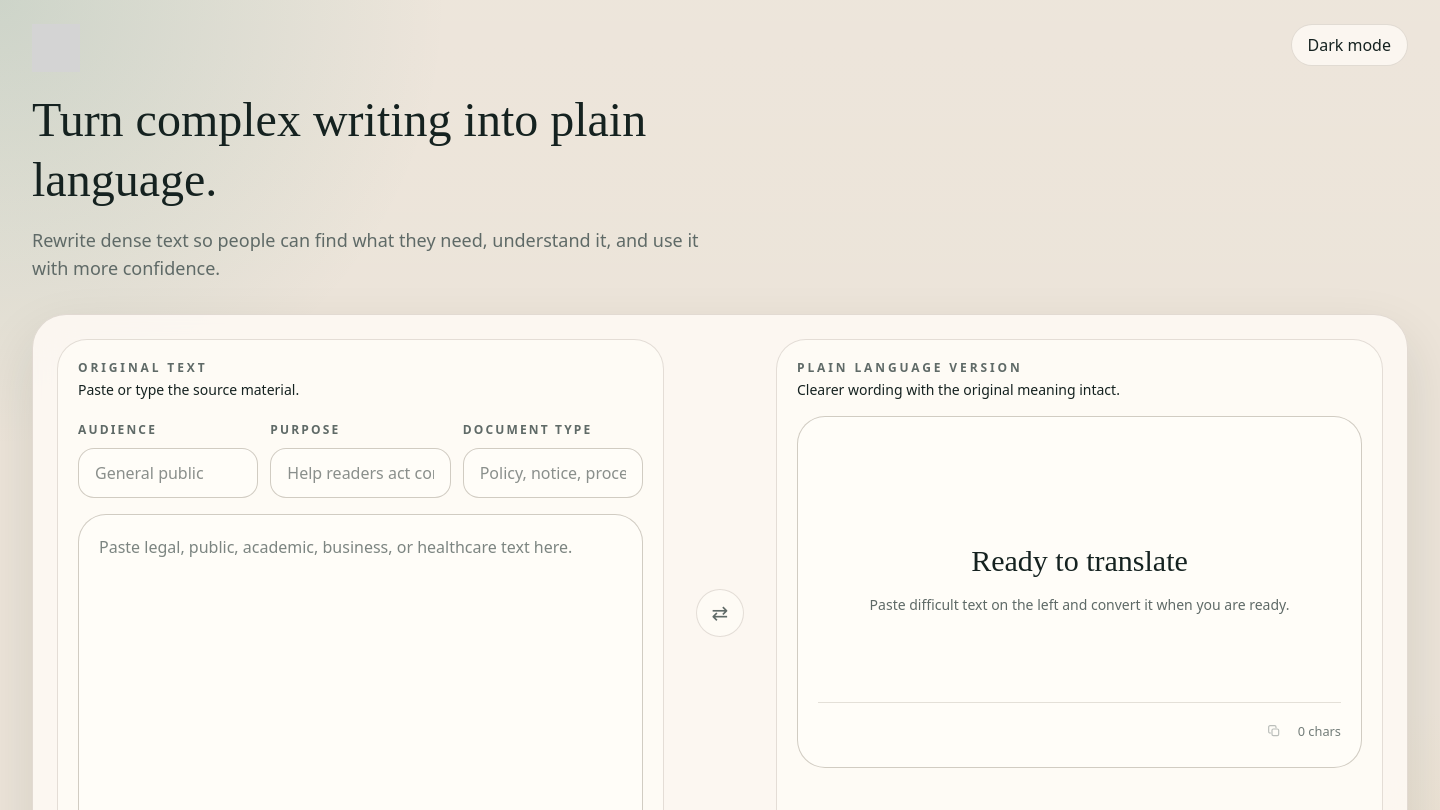
Test: TranslatorApp › submits text, renders the result, and switches to compare mode
Type "Individuals shall complete the form prior to Friday." into the text box named "original text" at (360, 669), box [99, 535, 622, 803]
(page scrolled)
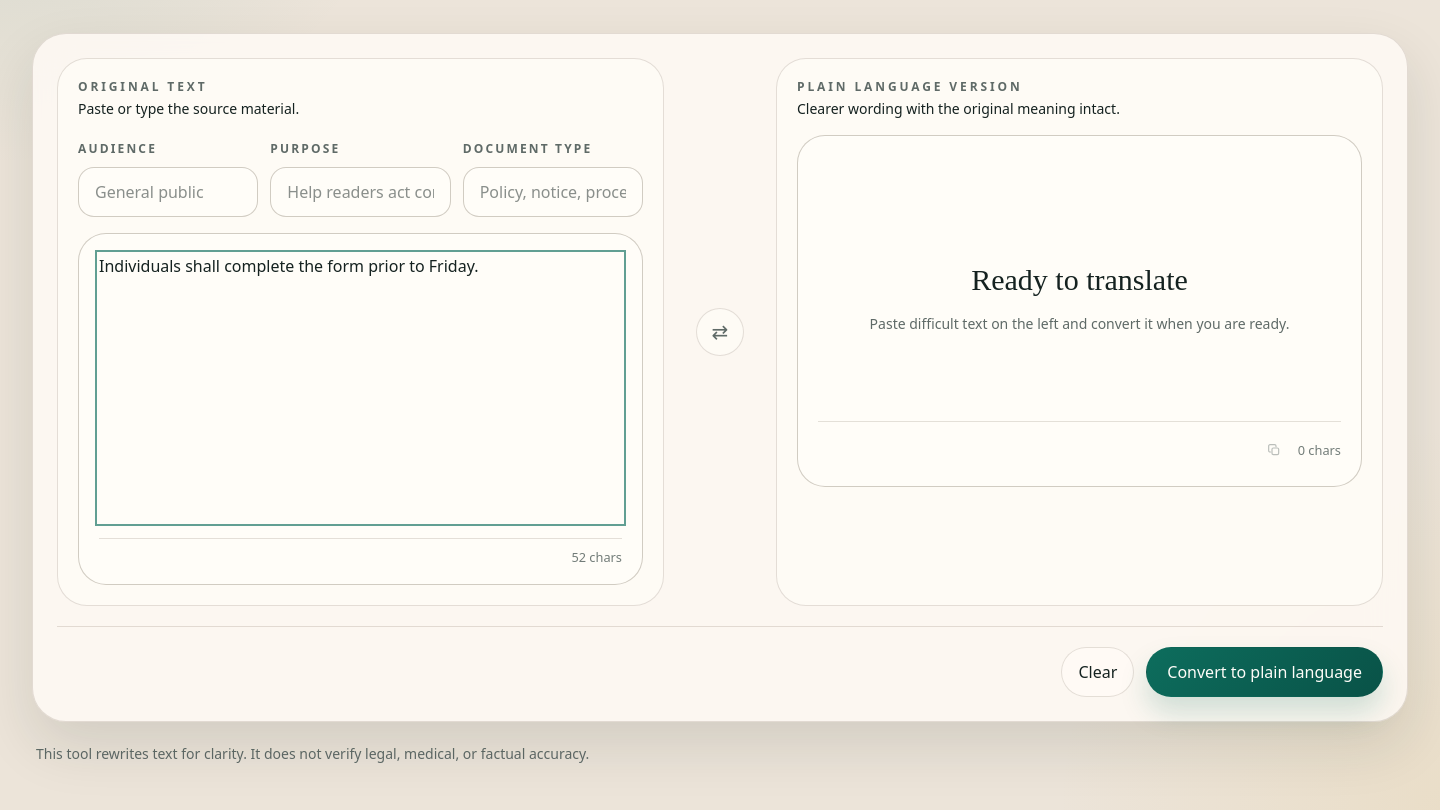
Click the button "Convert to plain language" at (1265, 672), box [1146, 647, 1383, 697]
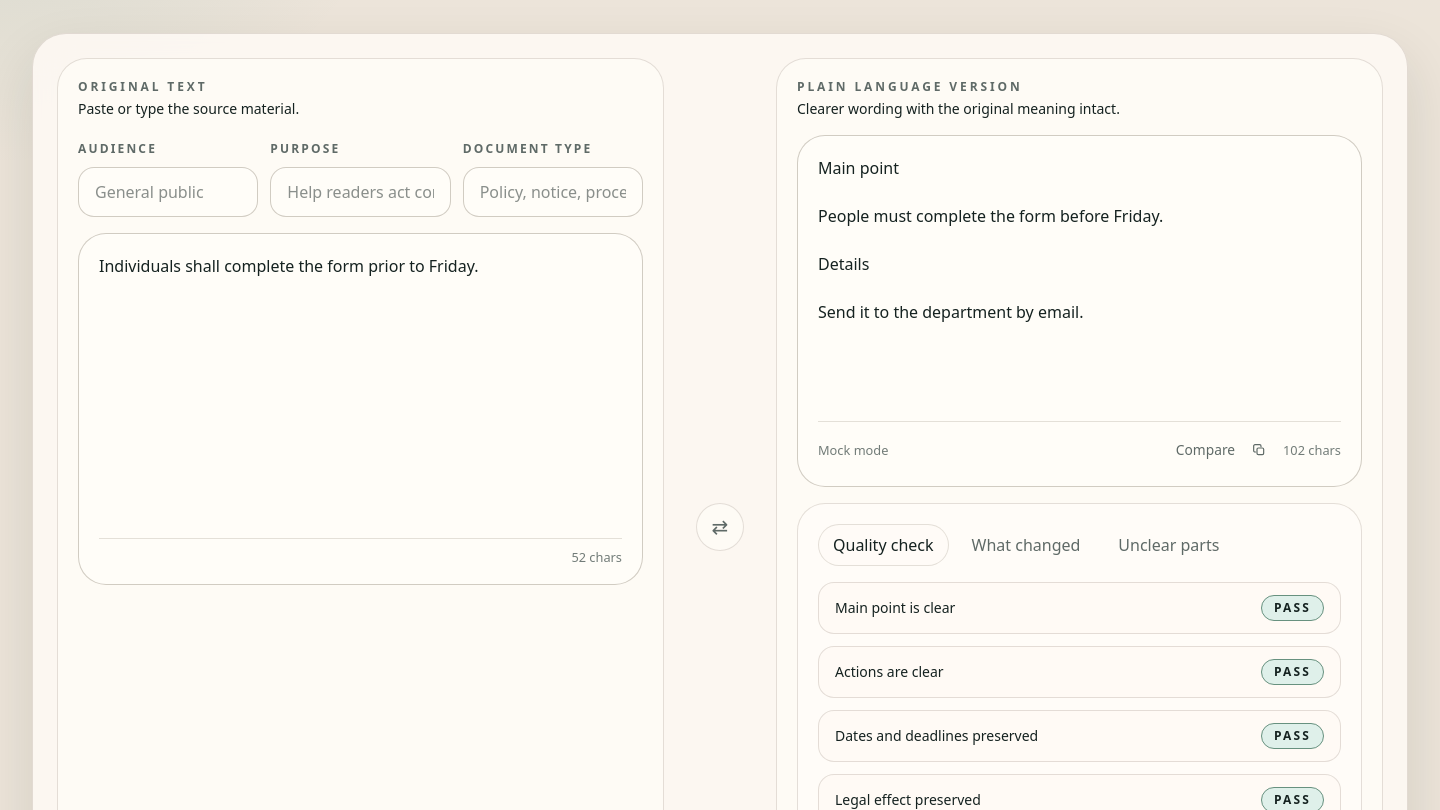
Result: the text box showing "People must complete the form before Friday" is shown at [818, 156, 1341, 405]
Result: the text "Mock mode" is shown at [818, 444, 888, 456]
Click the button "Compare" at (1205, 450), box [1176, 443, 1235, 457]
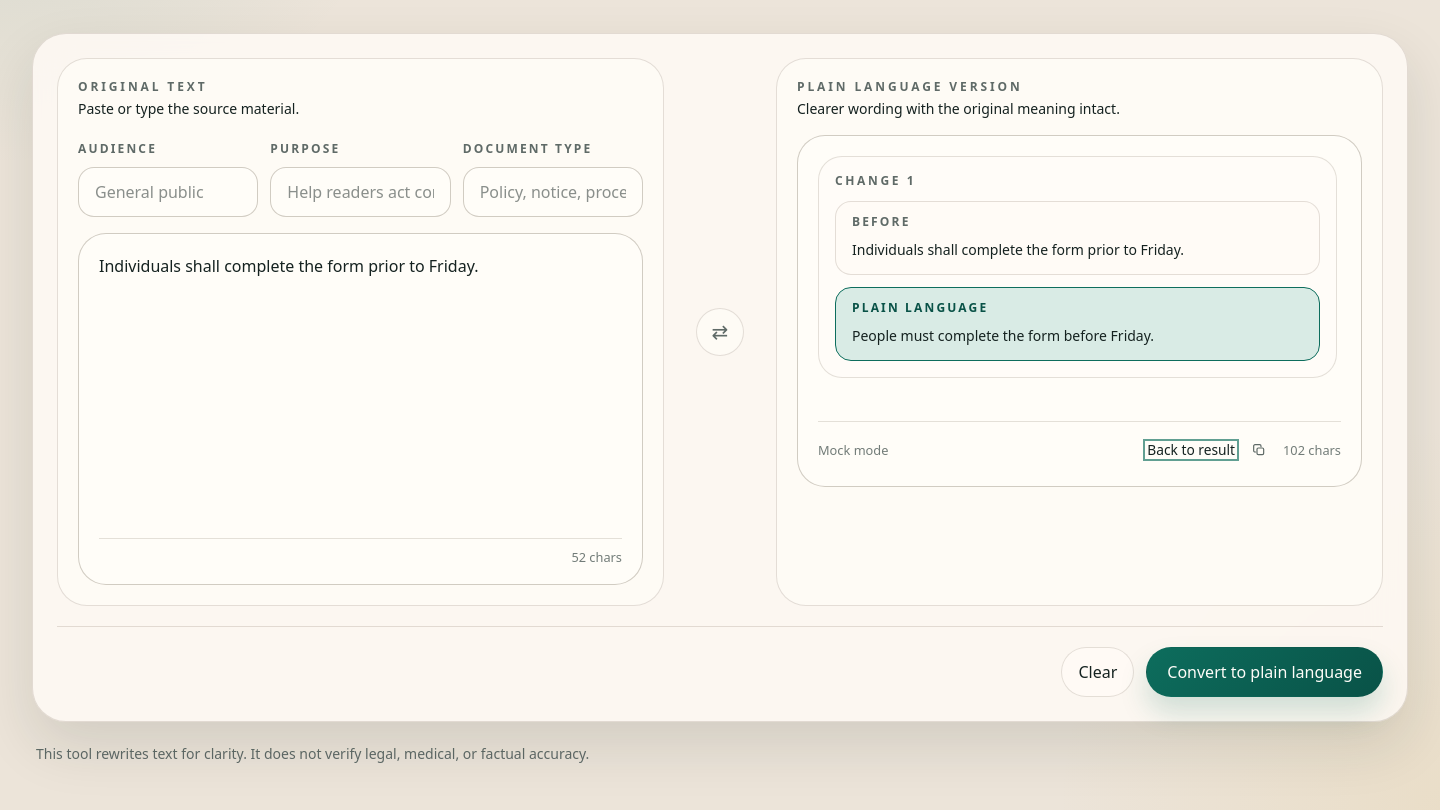
Result: the text "Change 1" is shown at [835, 172, 916, 189]
Result: the text "Plain language" is shown at [852, 299, 988, 316]
